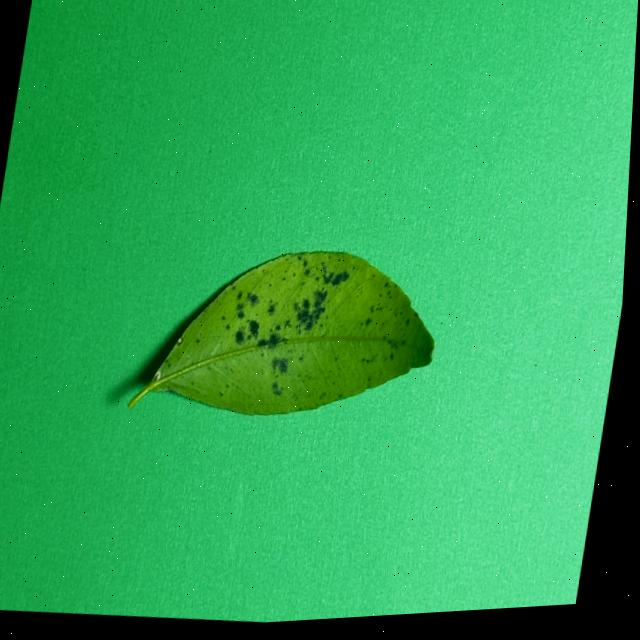sooty_mold: (129, 251, 434, 413)
